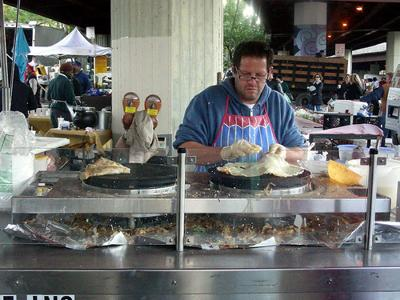person: (174, 41, 305, 170)
